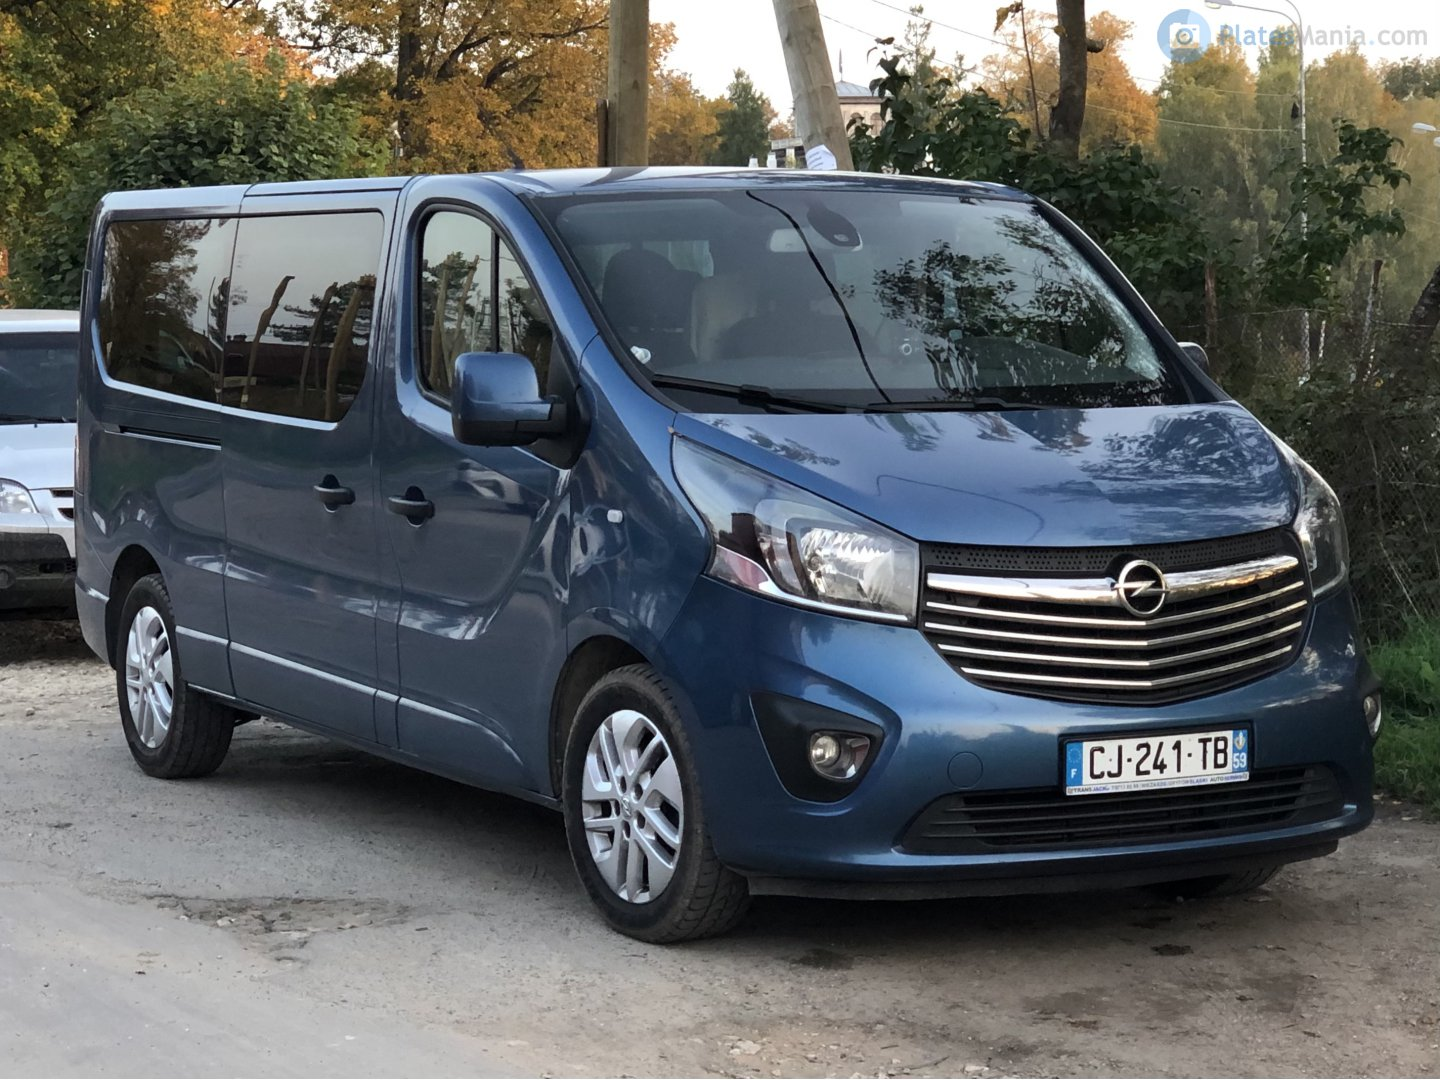licence plate: (1061, 723, 1262, 798)
